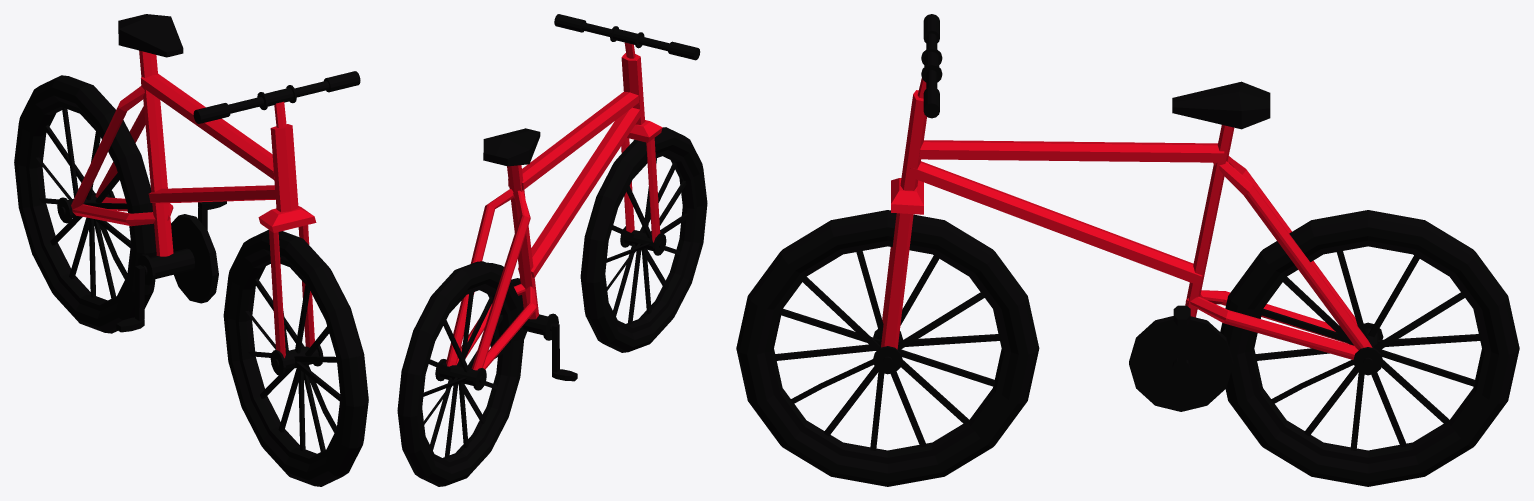
The model's file is obj_bike_.fbx.
3 views of the same model, side by side, from view 1: azimuth 30°, elevation 25°; view 2: azimuth 150°, elevation 25°; view 3: azimuth 270°, elevation 25° (orthographic). The views are drawn at different scales.
Visible parts, largest first — view 1: Torus.001; view 2: Torus.001; view 3: Torus.001.
Boxes of the visible parts, <box> form: Torus.001: <box>14,14,368,486</box>; Torus.001: <box>397,14,707,486</box>; Torus.001: <box>736,14,1519,486</box>.
Bounding box in the file's own units: 53.17 × 119 × 197.
